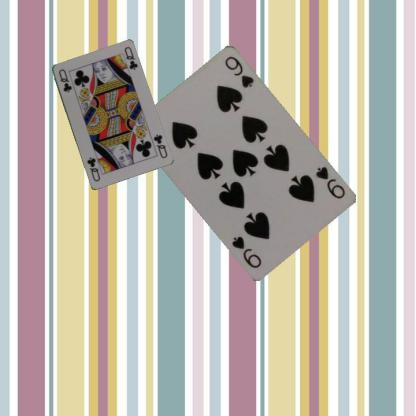9s: (313, 164, 346, 200)
Qc: (151, 131, 169, 160), (56, 66, 73, 94)
